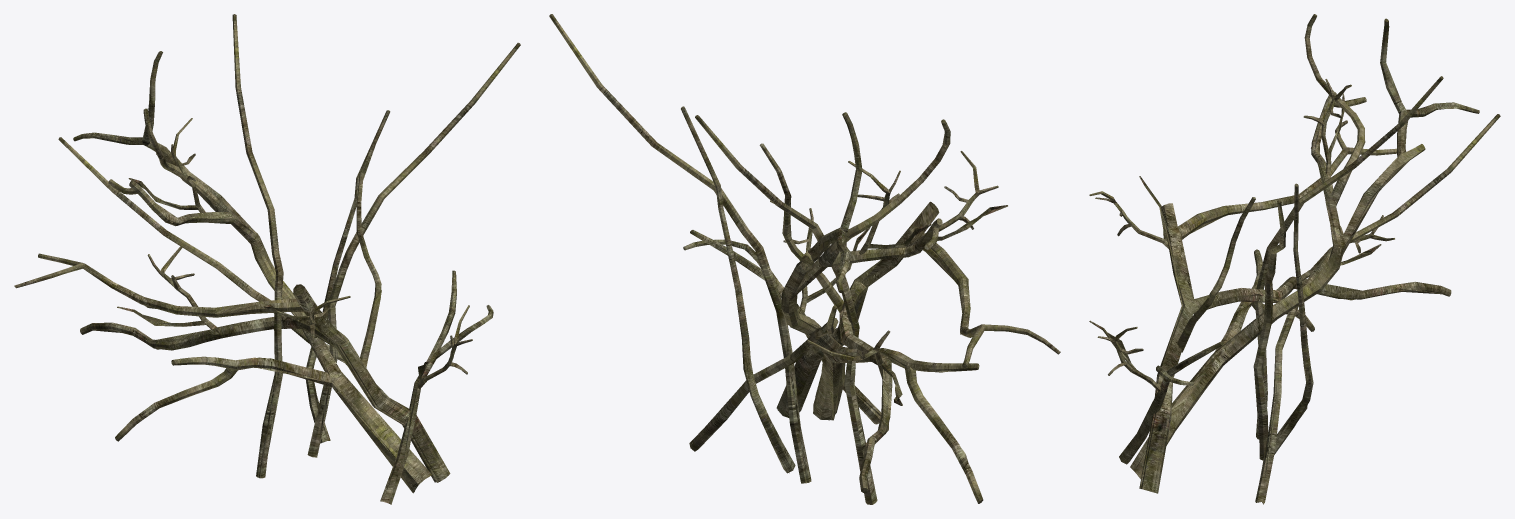
The model's file is 1_TREE_TRUNK_01_5-transformed.glb.
3 views of the same model, side by side, from view 1: azimuth 30°, elevation 25°; view 2: azimuth 150°, elevation 25°; view 3: azimuth 270°, elevation 25° (orthographic). The views are drawn at different scales.
Visible parts, largest first — view 1: default; view 2: default; view 3: default.
Boxes of the visible parts, bbox=[...] form: default: bbox=[14, 14, 520, 504]; default: bbox=[549, 14, 1060, 504]; default: bbox=[1089, 14, 1500, 504].
Bounding box in the file's own units: 6.17 × 4.87 × 4.54.
1 material, 1 textured.
